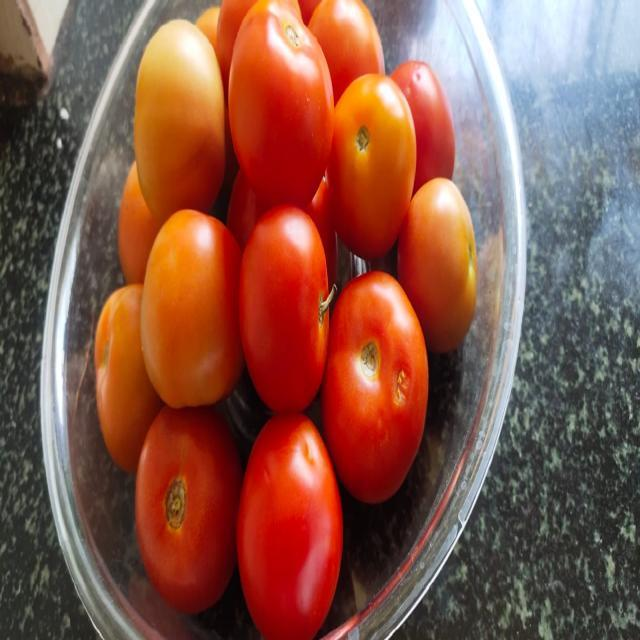Tomato: (321, 270, 429, 502), (236, 413, 343, 639), (135, 406, 242, 613), (229, 0, 334, 207), (140, 210, 244, 407), (239, 204, 329, 412), (134, 17, 225, 221), (327, 72, 417, 258), (398, 177, 478, 352), (94, 283, 162, 472), (391, 60, 456, 193), (309, 0, 385, 102), (118, 160, 160, 283)
